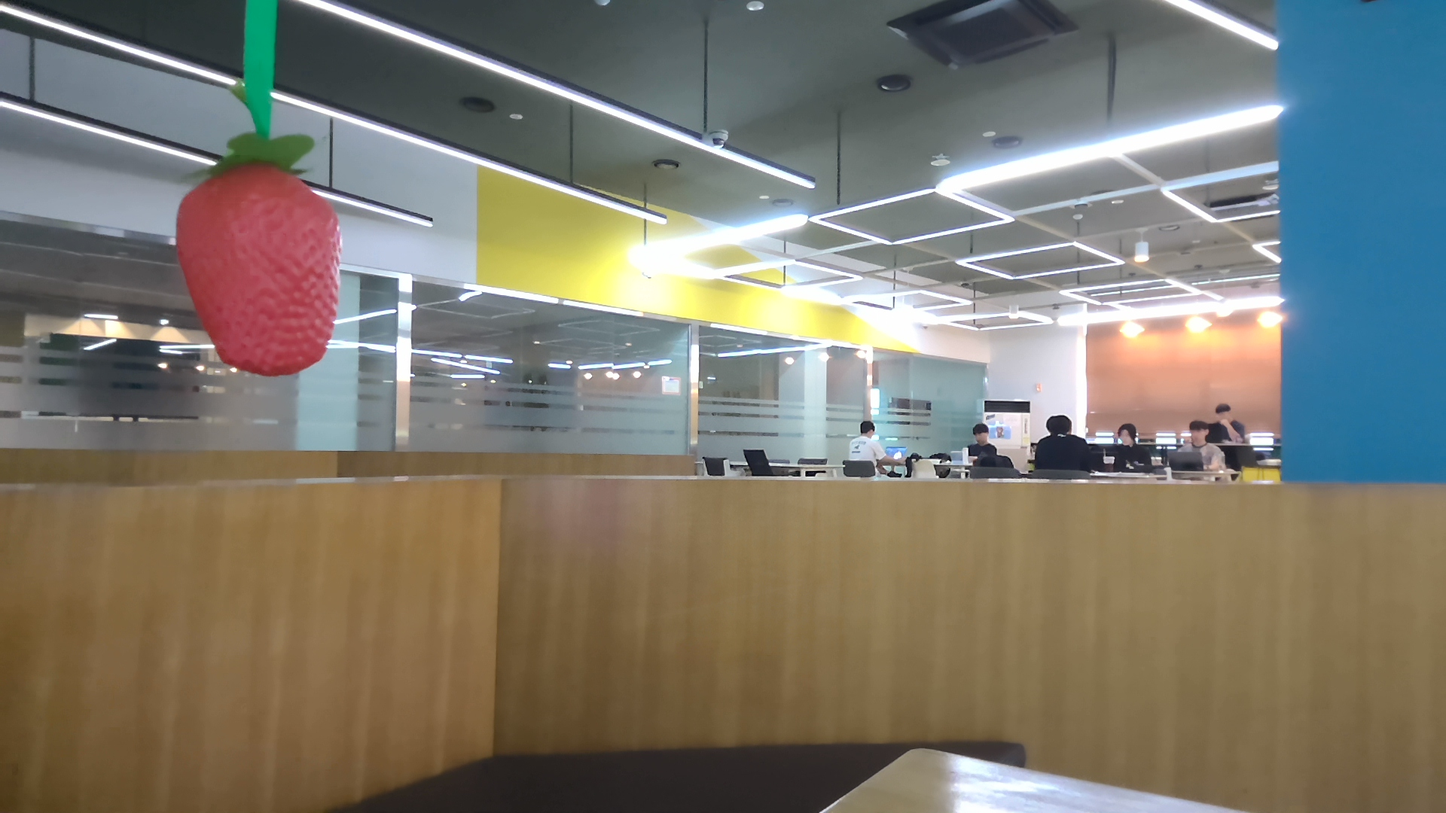strawberry: (157, 157, 349, 379)
